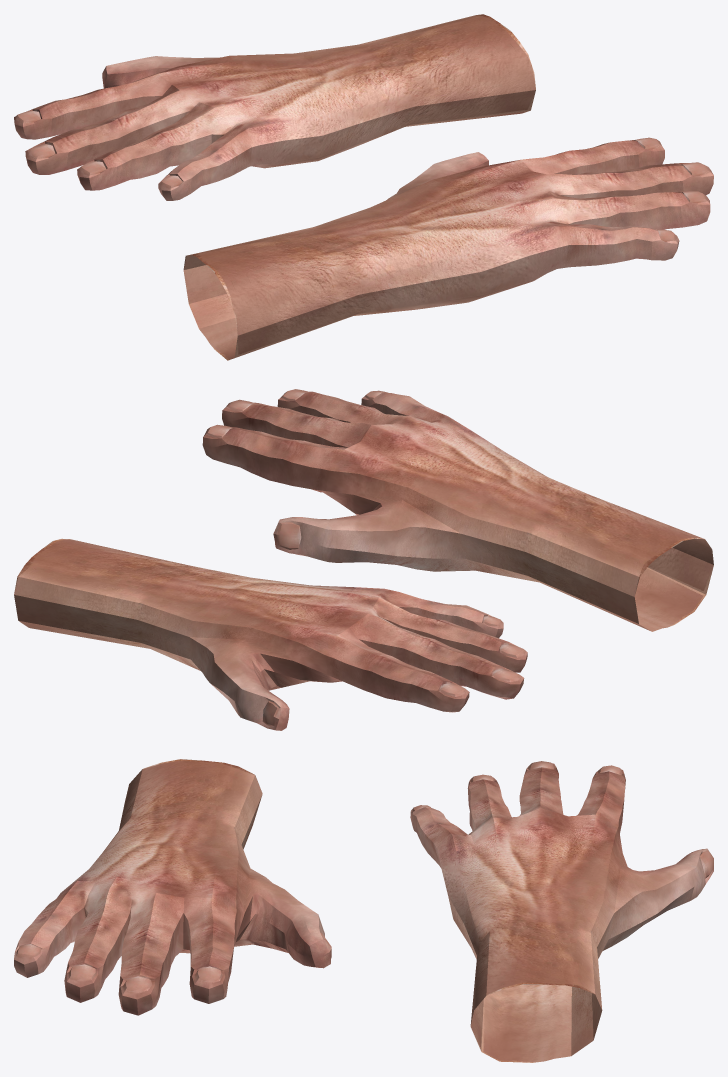
File: hands.fbx
The picture shows the model from 3 angles, top to bottom: view 1: azimuth 30°, elevation 25°; view 2: azimuth 150°, elevation 25°; view 3: azimuth 270°, elevation 25°; orthographic projection. The views are drawn at different scales.
Parts seen in each view (by area): view 1: Cube.000_Cube.017_Detached, Cube.000_Cube.017_Detached_Detached; view 2: Cube.000_Cube.017_Detached, Cube.000_Cube.017_Detached_Detached; view 3: Cube.000_Cube.017_Detached_Detached, Cube.000_Cube.017_Detached.
Part boxes in pixels (x1=…): Cube.000_Cube.017_Detached: x1=183, y1=137, x2=713, y2=360; Cube.000_Cube.017_Detached_Detached: x1=14, y1=14, x2=535, y2=200; Cube.000_Cube.017_Detached: x1=202, y1=389, x2=713, y2=631; Cube.000_Cube.017_Detached_Detached: x1=14, y1=538, x2=527, y2=730; Cube.000_Cube.017_Detached_Detached: x1=410, y1=761, x2=713, y2=1062; Cube.000_Cube.017_Detached: x1=14, y1=759, x2=331, y2=1015.
Size of the model in its own units: 0.2639 by 0.0564 by 0.3156.
Materials: 1 (1 with a texture image).
